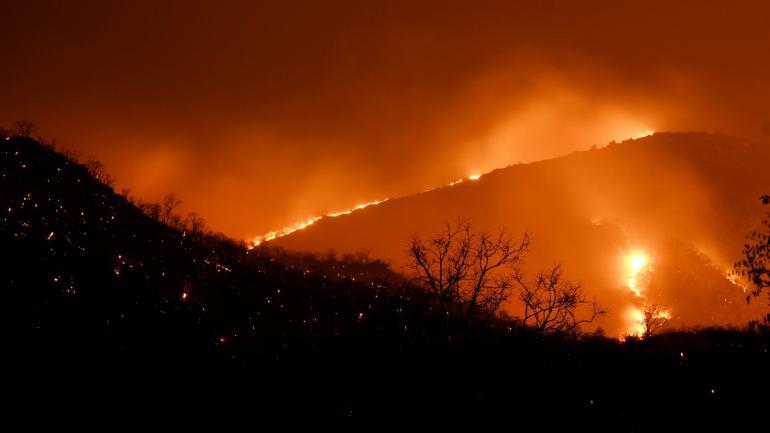fire: (624, 249, 651, 293), (328, 202, 358, 221), (246, 232, 283, 243), (288, 221, 319, 234), (628, 310, 639, 339)
